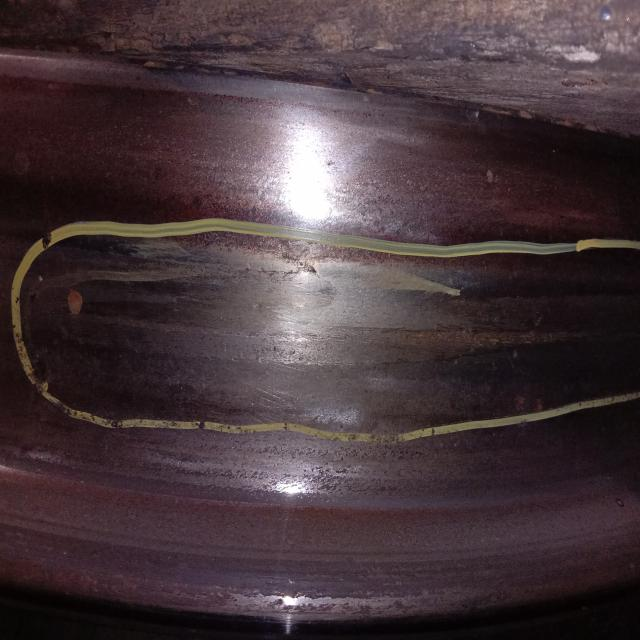flat: (66, 266, 615, 400)
